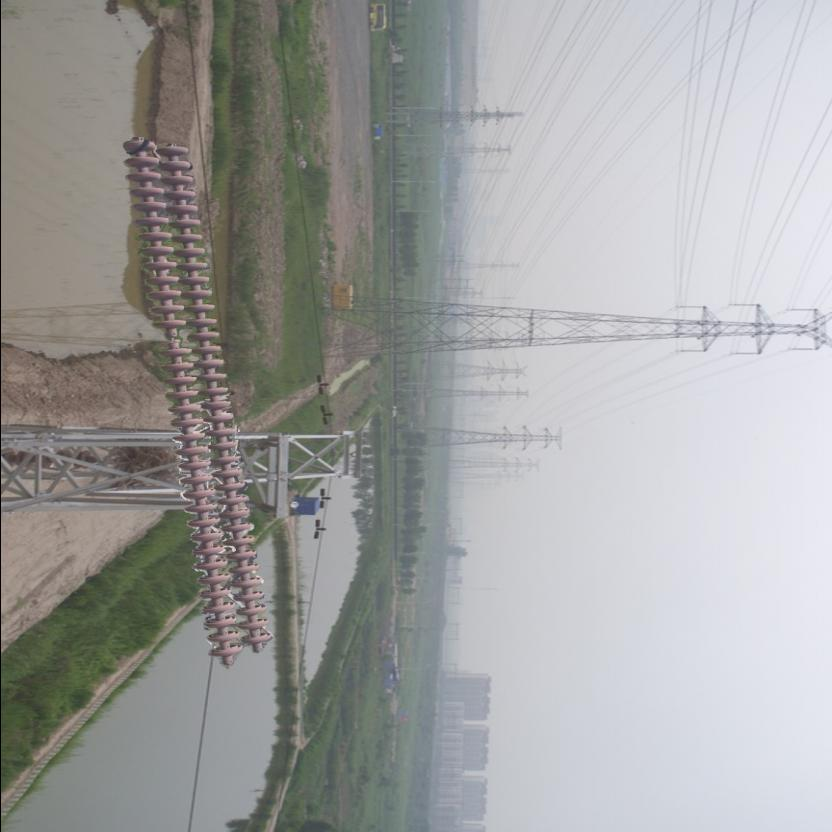defect: (152, 314, 192, 362)
